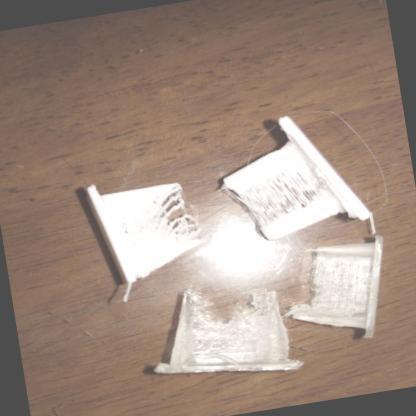fail: (243, 168, 318, 222), (153, 189, 198, 241)
